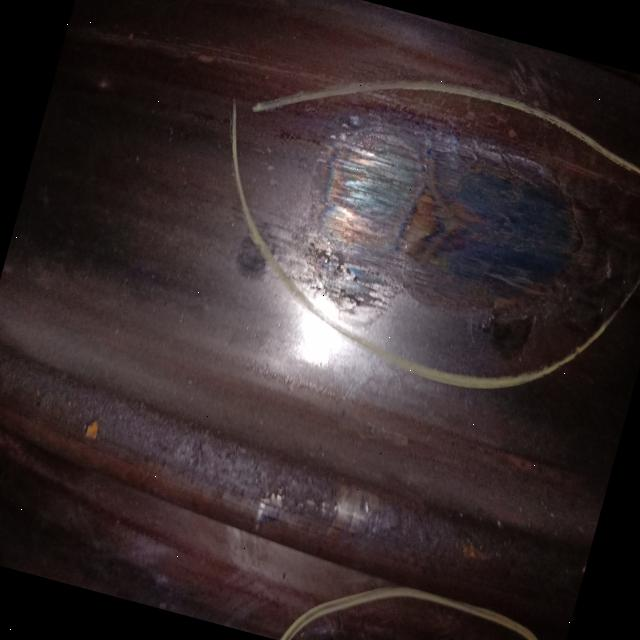flat: (293, 104, 614, 356)
